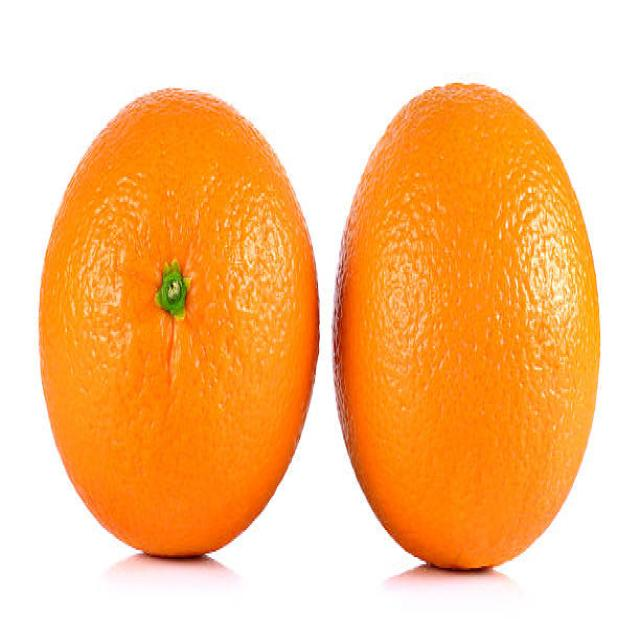Ripe: (36, 78, 321, 557), (334, 84, 604, 572)
